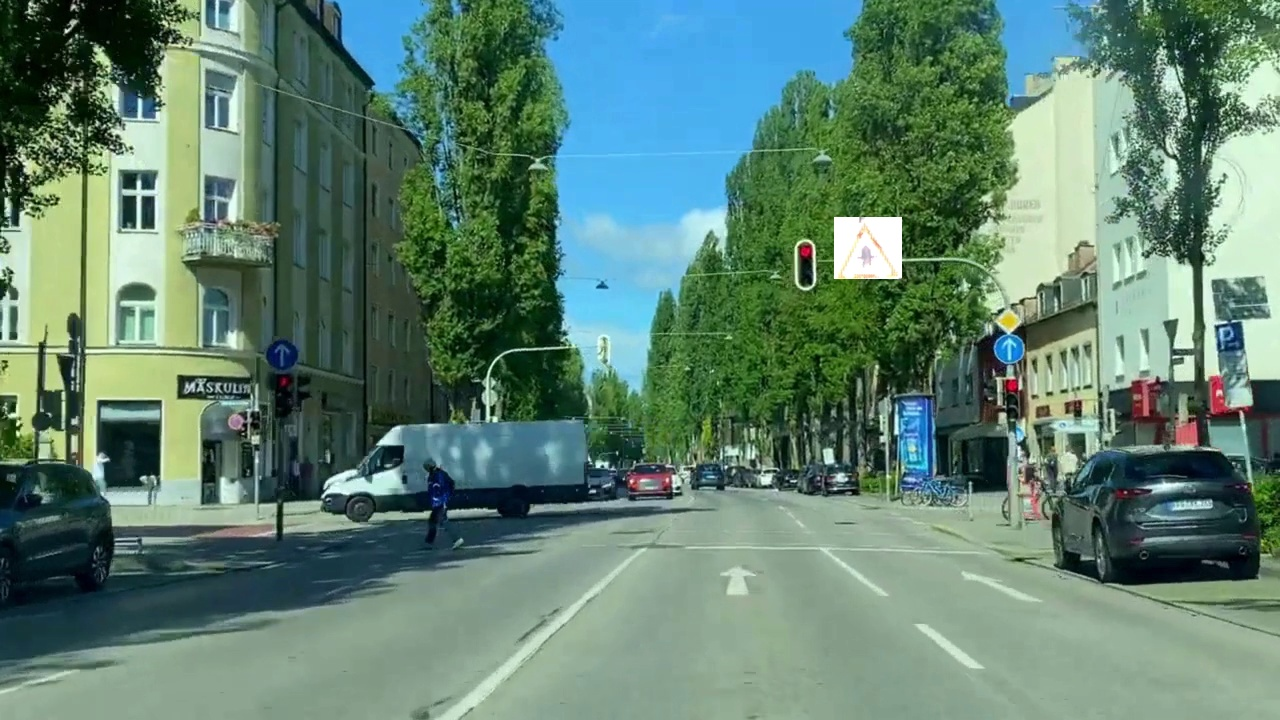Right-of-way: (834, 217, 902, 279)
